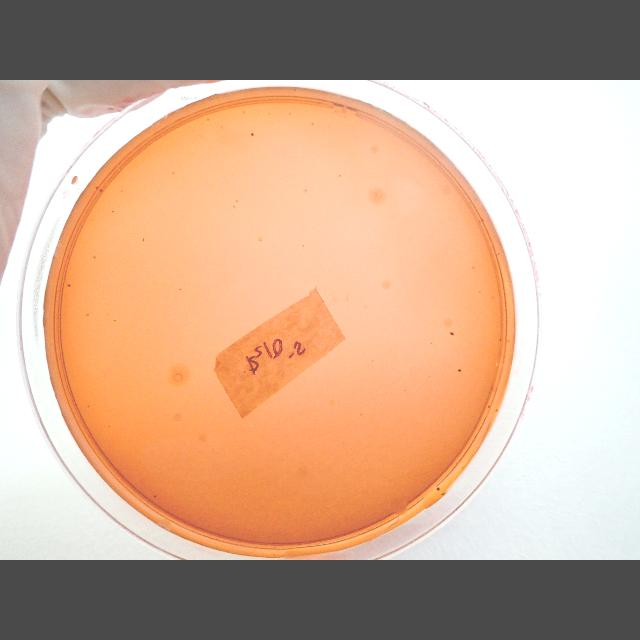colony: (436, 486, 440, 492), (457, 368, 463, 372), (178, 287, 182, 293), (292, 88, 298, 92), (450, 332, 454, 336), (153, 494, 157, 498), (113, 318, 117, 322), (86, 312, 90, 316), (250, 132, 254, 136), (310, 122, 314, 126), (67, 284, 71, 288), (95, 186, 99, 190), (120, 189, 124, 193), (112, 210, 115, 214), (338, 175, 342, 178), (207, 118, 210, 122), (242, 110, 245, 114), (488, 405, 490, 409), (496, 408, 498, 412), (500, 338, 502, 342), (404, 388, 406, 392), (88, 404, 90, 408), (106, 312, 108, 316), (142, 238, 144, 242), (472, 266, 474, 270), (100, 189, 102, 193), (233, 204, 235, 208), (289, 112, 291, 116), (497, 252, 499, 255), (268, 112, 270, 115), (108, 426, 110, 428), (94, 256, 96, 258), (236, 200, 238, 202), (302, 244, 304, 246), (172, 172, 174, 174)
